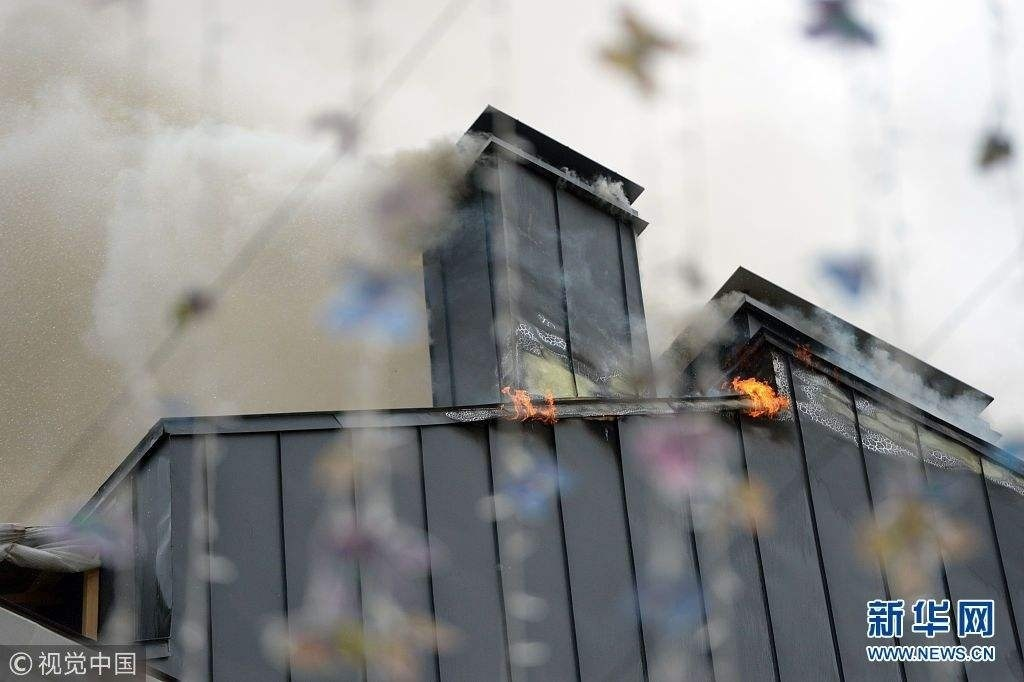fire: (726, 370, 787, 419), (500, 383, 558, 421)
